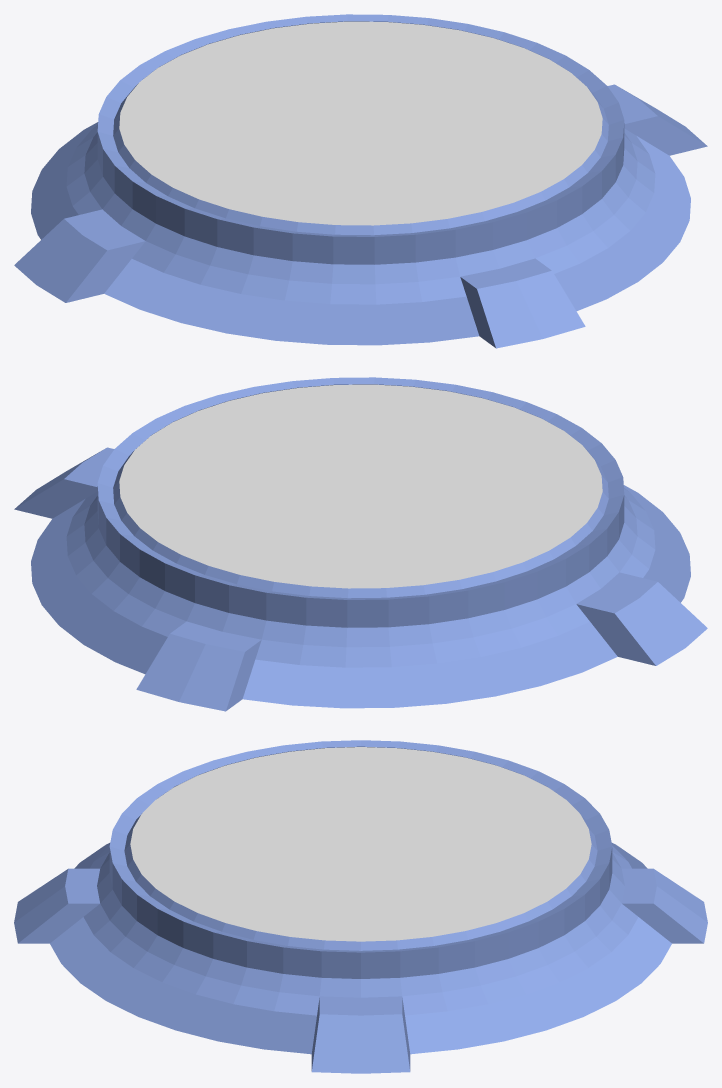
Rendered from GD Portalll .fbx.
3 views of the same model, one above another, from view 1: azimuth 30°, elevation 25°; view 2: azimuth 150°, elevation 25°; view 3: azimuth 270°, elevation 25° (orthographic). The views are drawn at different scales.
Parts seen in each view (by area): view 1: Base, Top; view 2: Base, Top; view 3: Base, Top.
Part boxes in pixels (x1,y1,x2,y2): Base: (14,14,707,348); Top: (119,21,602,225); Base: (14,377,707,711); Top: (119,384,602,588); Base: (14,740,707,1073); Top: (130,747,591,941).
Size of the model in its own units: 309 by 37.55 by 300.
